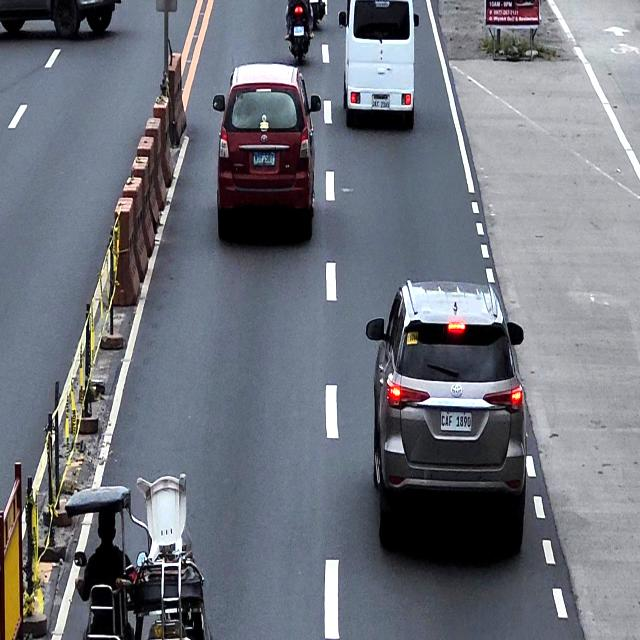Car: (366, 278, 528, 554), (212, 62, 321, 240), (338, 0, 419, 129), (0, 0, 124, 39)
License-Plate: (439, 408, 473, 433), (251, 148, 277, 168), (371, 98, 391, 111), (293, 25, 305, 37)
Motorcycle: (284, 0, 313, 63)
Tricycle: (65, 483, 213, 640)
